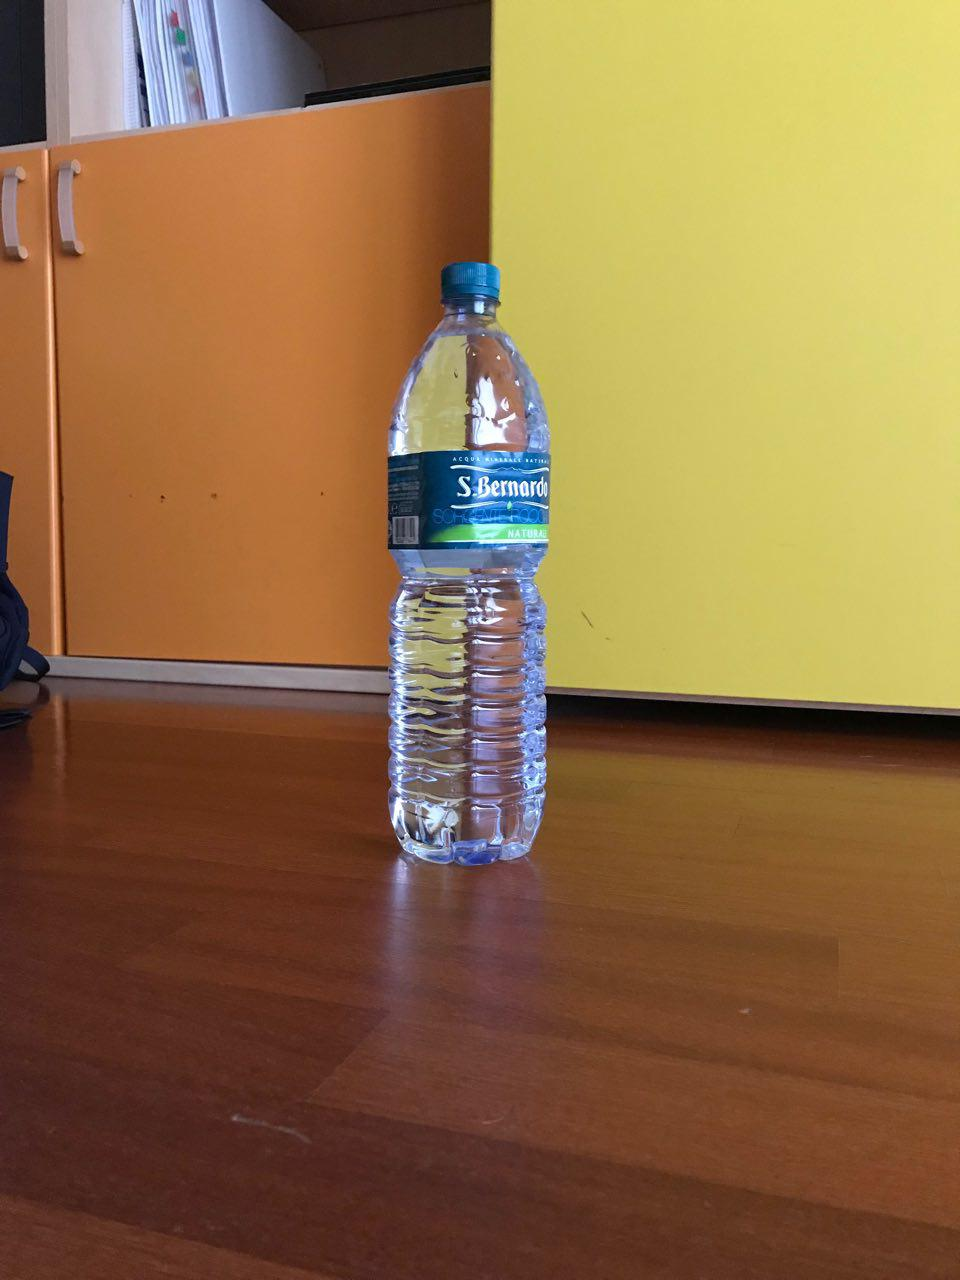san_bernardo: (383, 257, 552, 867)
